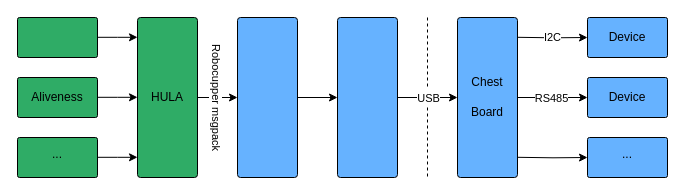
This 685x196 diagram has some shape labels left out. Each missing label, with the centre of its shape:
HAL: the point at 367,97
HULK: the point at 57,37
LoLA: the point at 267,97
